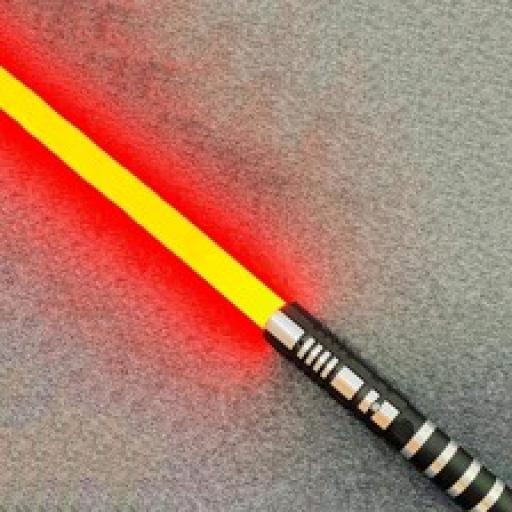lightsaber: (0, 60, 512, 510)
